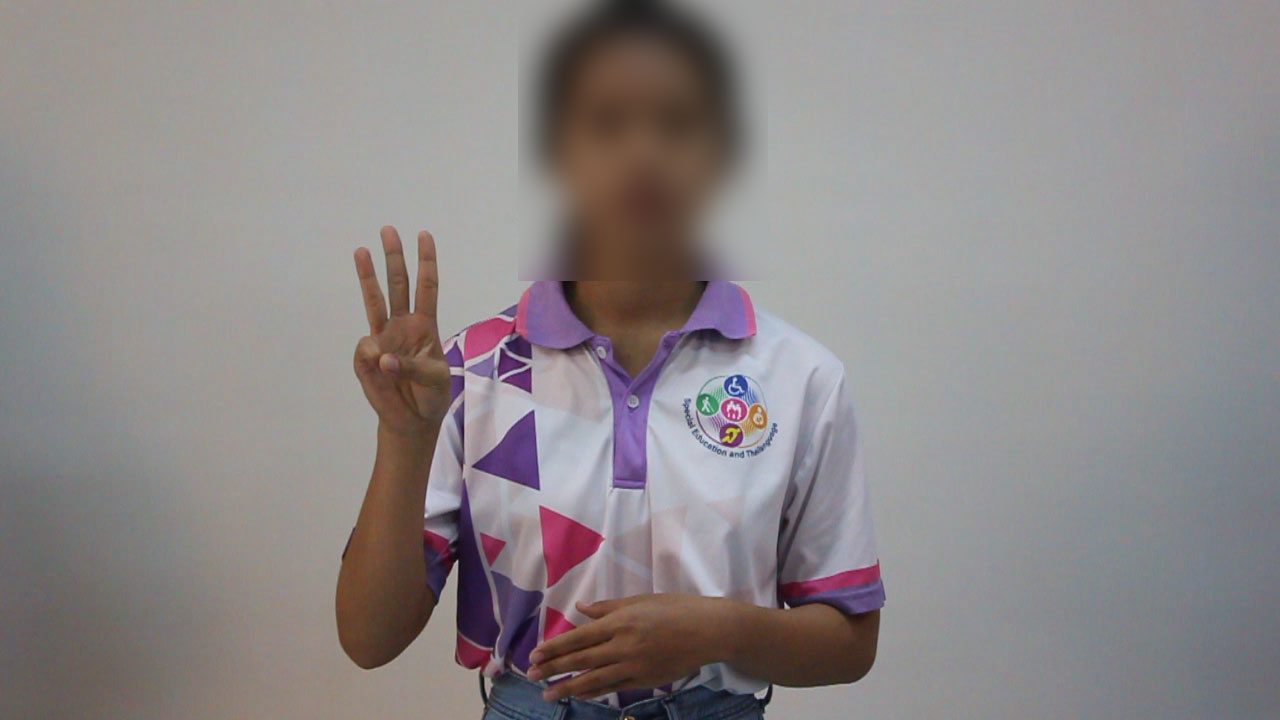wor: (343, 217, 462, 440)
